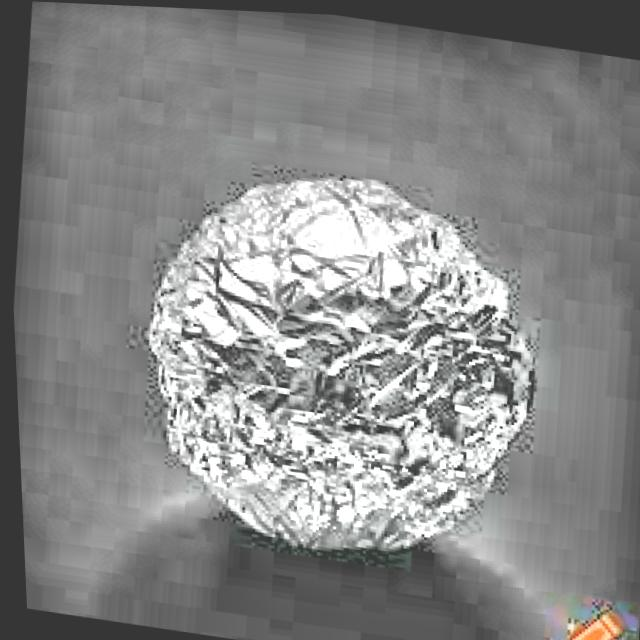Foil: (92, 126, 566, 593)
